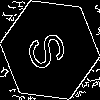S: (25, 25, 76, 74)
